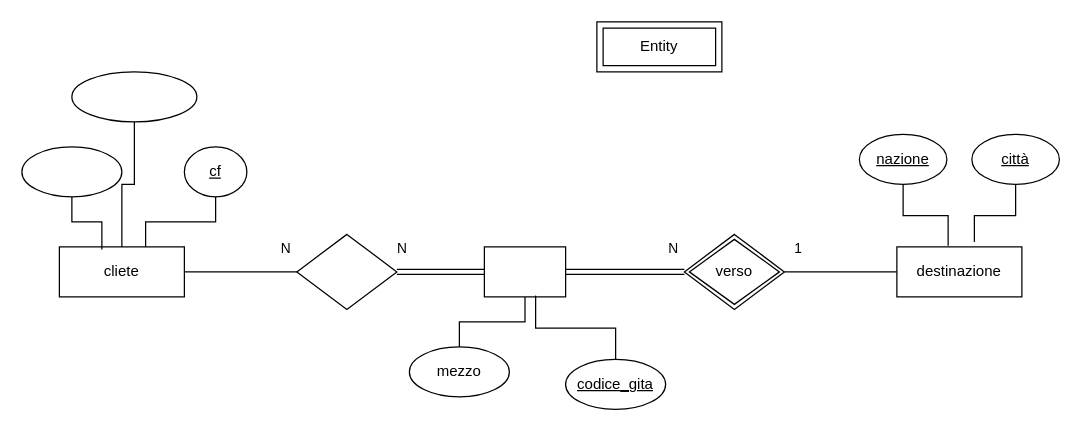
Image size: 1081x431. Some labels were removed from this diagram. The shapes that lost their labels are listed below. From the top down, each one's centre as x and y in pixels, then its label:
At pixel 134 96: "nome".
At pixel 71 171: "cognome".
At pixel 346 271: "partecipa".
At pixel 524 271: "gita".
